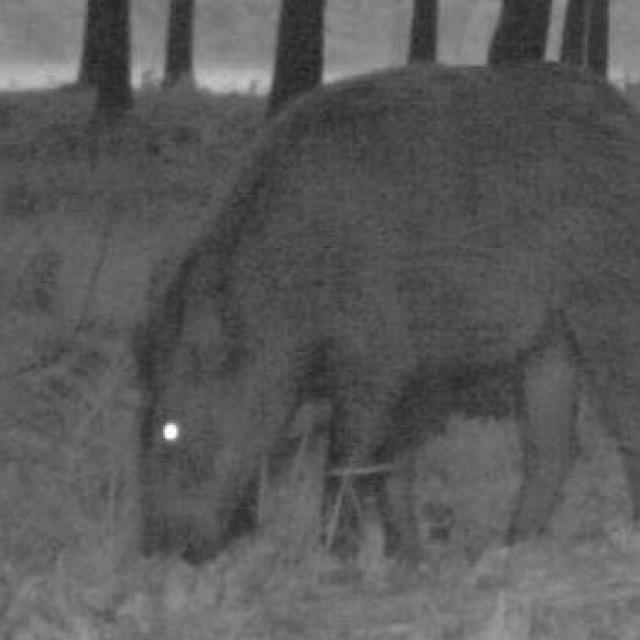pig: (92, 9, 640, 526)
